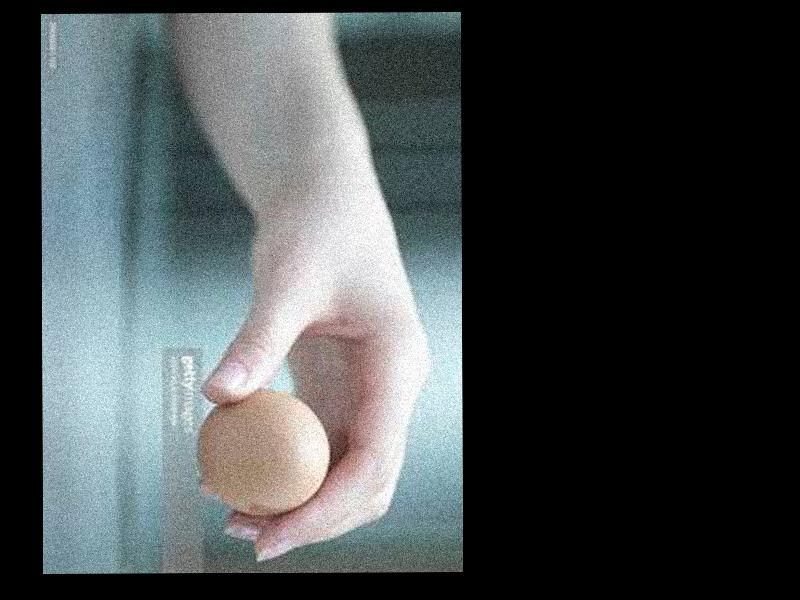Eggs: (194, 386, 332, 515)
